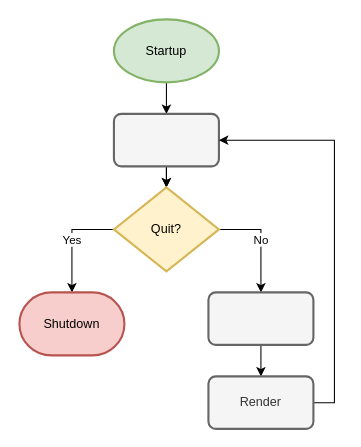
Some shapes in this 361 by 447 pixel diagram are drawn without their labels. Here are the shapes that lost their labels. From the top down, the centre of each, then its label:
the point at 165,139: Process Input
the point at 260,318: Update
